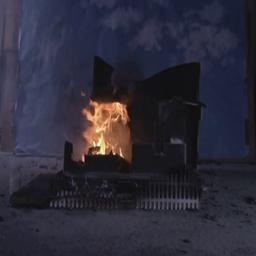fire: (77, 86, 138, 164)
